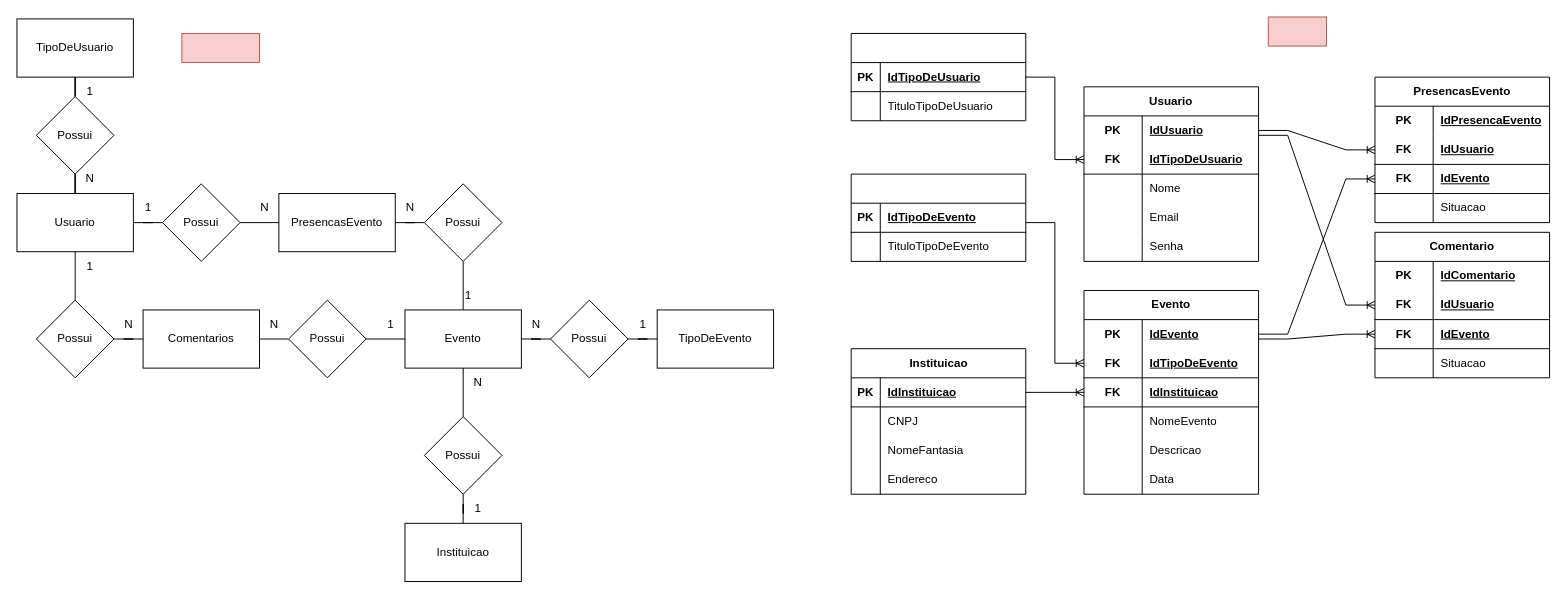
Image size: 1567x598. Some labels were removed from this diagram. The shapes that lost their labels are listed below. From the top down, each one's box as (x1, y1, x2, y2) in pixels, then its label:
(181, 32, 259, 63): Conceitual
(1267, 16, 1326, 46): Lógico
(850, 32, 1026, 121): TiposDeUsuario
(850, 173, 1026, 261): TiposDeEvento
